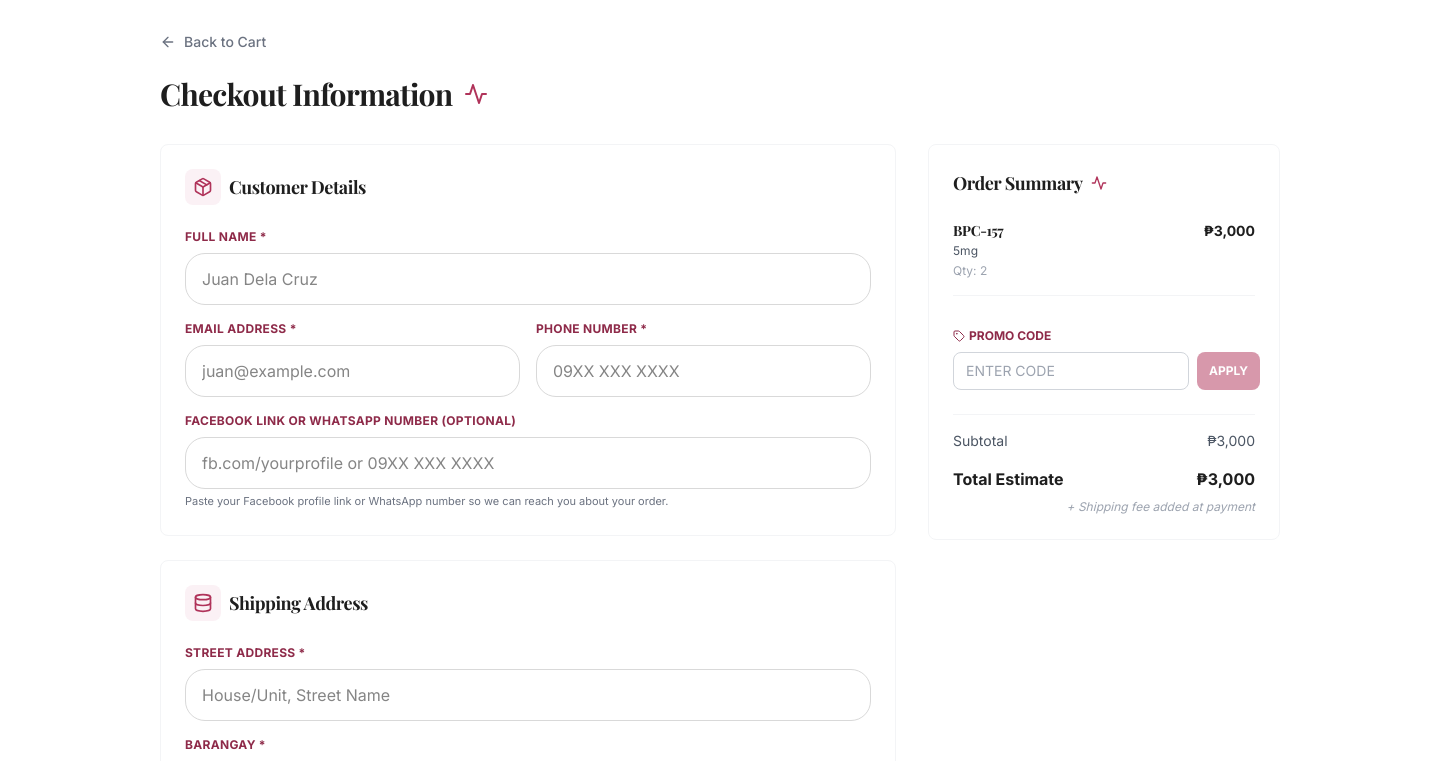
Test: Checkout › promo code › shows error when minimum purchase not met
The width and height of the screenshot is (1440, 761).
Type "MINBUY" into the field with placeholder "ENTER CODE" at x=1071, y=371, box [953,352,1189,390]
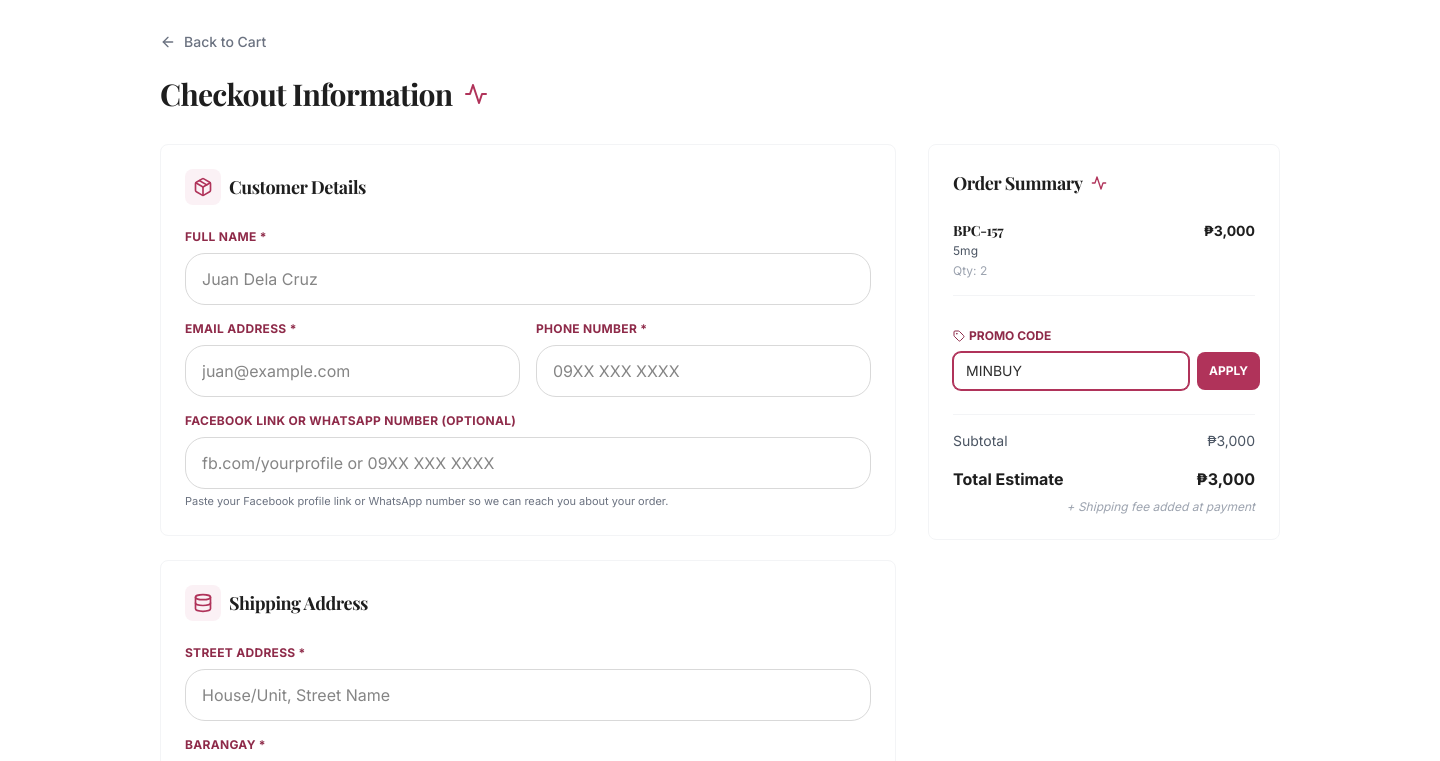
Click the button "APPLY" at x=1228, y=371, box [1197,352,1260,390]
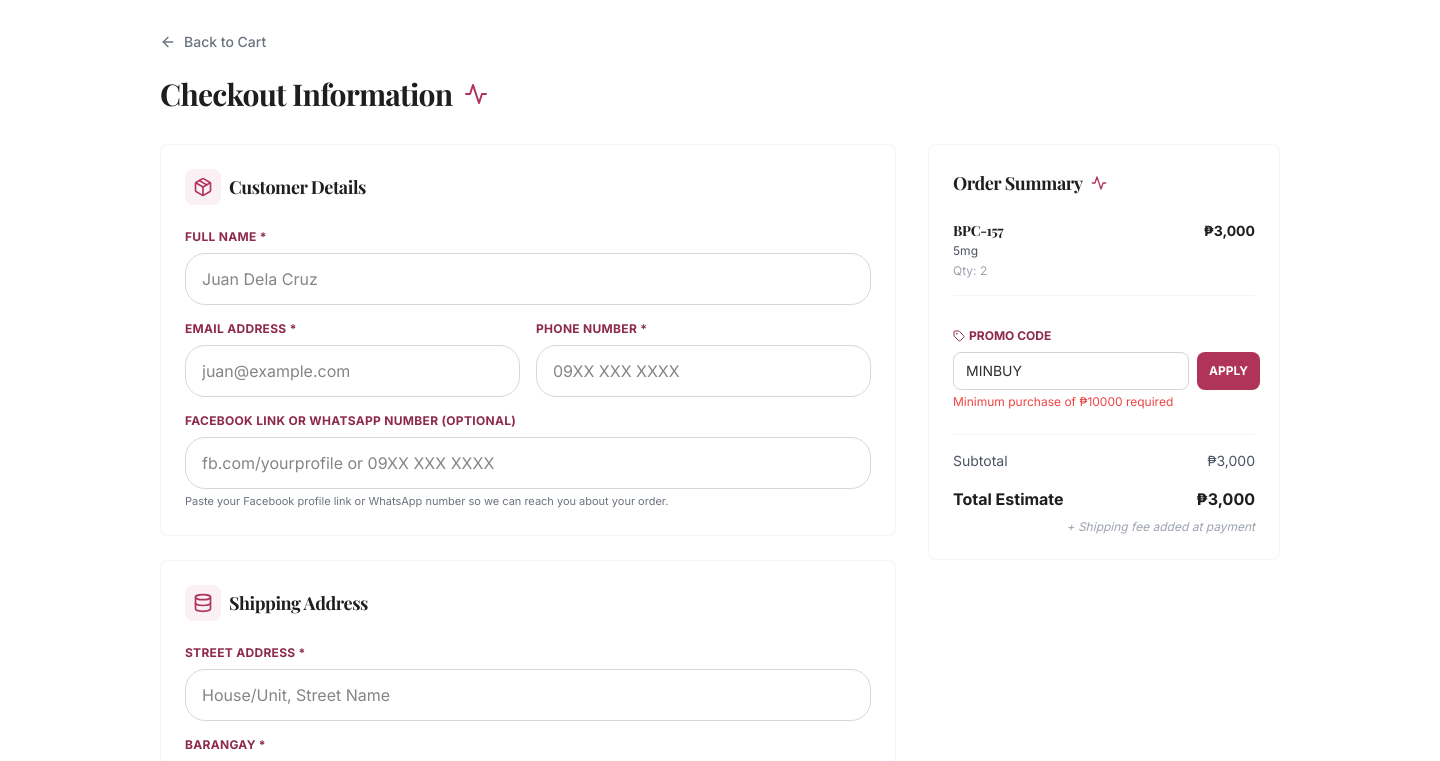
Expected: the text "Minimum purchase of ₱10000 required" is shown, [953,394,1173,409]
